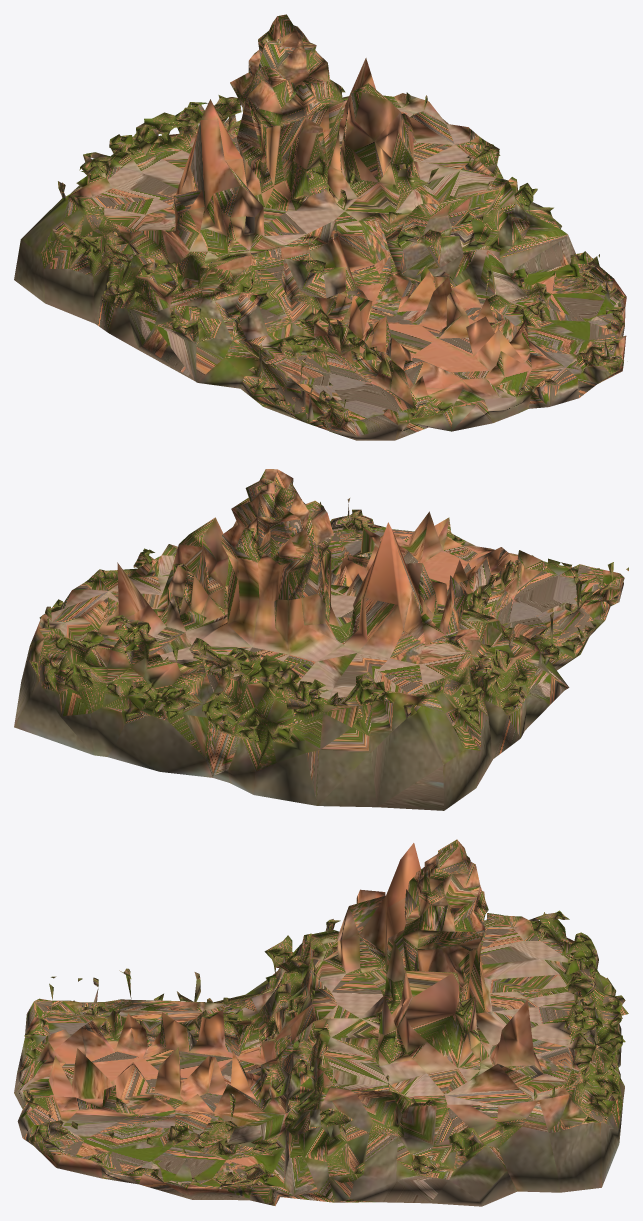
File: thap-ba-ponagar.glb
The picture shows the model from 3 angles, top to bottom: view 1: azimuth 30°, elevation 25°; view 2: azimuth 150°, elevation 25°; view 3: azimuth 270°, elevation 25°; orthographic projection. The views are drawn at different scales.
Bounding box in the file's own units: 0.8559 × 0.4531 × 0.9931.
1 material, 1 textured.
